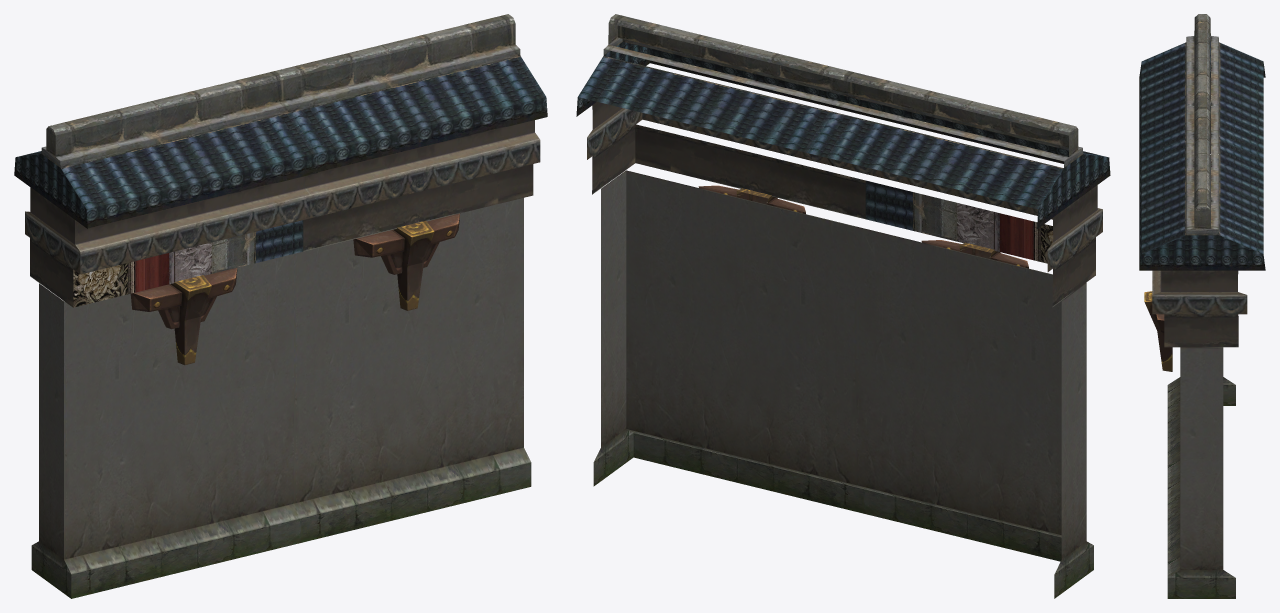
File: cj_luoyang_weiqiang04_55_22_8767out.fbx
The picture shows the model from 3 angles, left to right: view 1: azimuth 30°, elevation 25°; view 2: azimuth 150°, elevation 25°; view 3: azimuth 270°, elevation 25°; orthographic projection. The views are drawn at different scales.
Visible parts, largest first — view 1: cj_luoyang_weiqiang04; view 2: cj_luoyang_weiqiang04; view 3: cj_luoyang_weiqiang04.
Part boxes in pixels (x1,y1,x2,y2): cj_luoyang_weiqiang04: (14, 14, 547, 598); cj_luoyang_weiqiang04: (576, 14, 1110, 598); cj_luoyang_weiqiang04: (1139, 14, 1265, 598).
Bounding box in the file's own units: 5.08 × 4.81 × 1.41.
